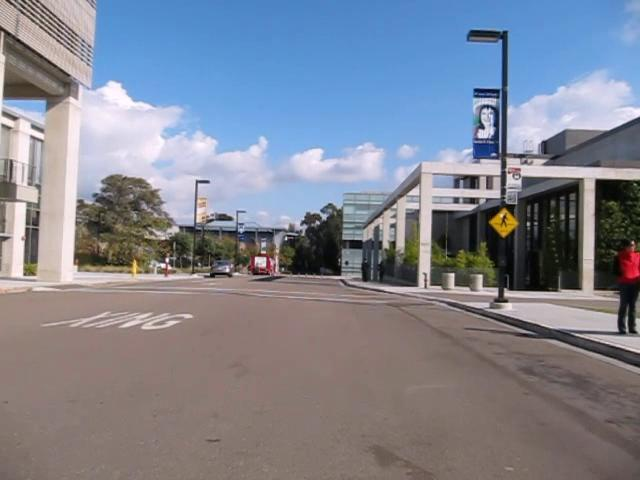pedestrianCrossing: (487, 206, 519, 238)
